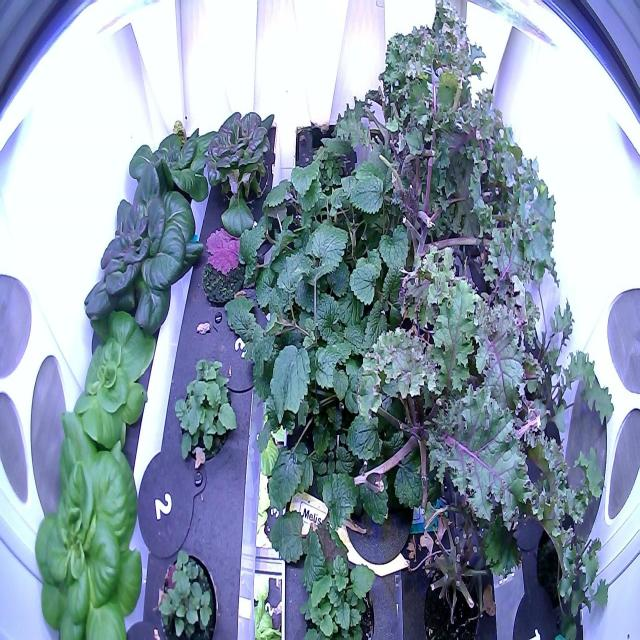young: (33, 404, 152, 638), (73, 156, 202, 351), (62, 298, 156, 451), (122, 109, 220, 218), (198, 88, 280, 214)
